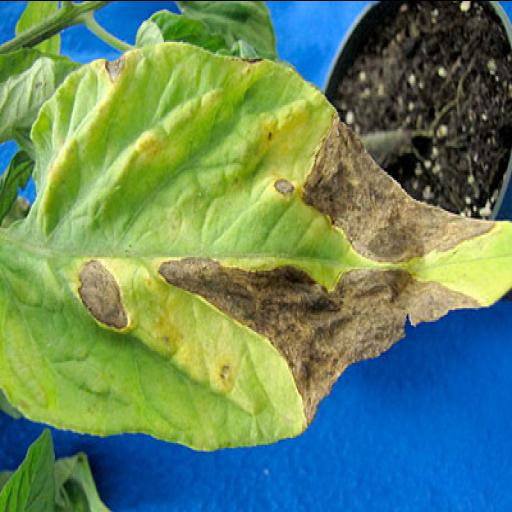disease_tomato: (2, 31, 512, 451)
